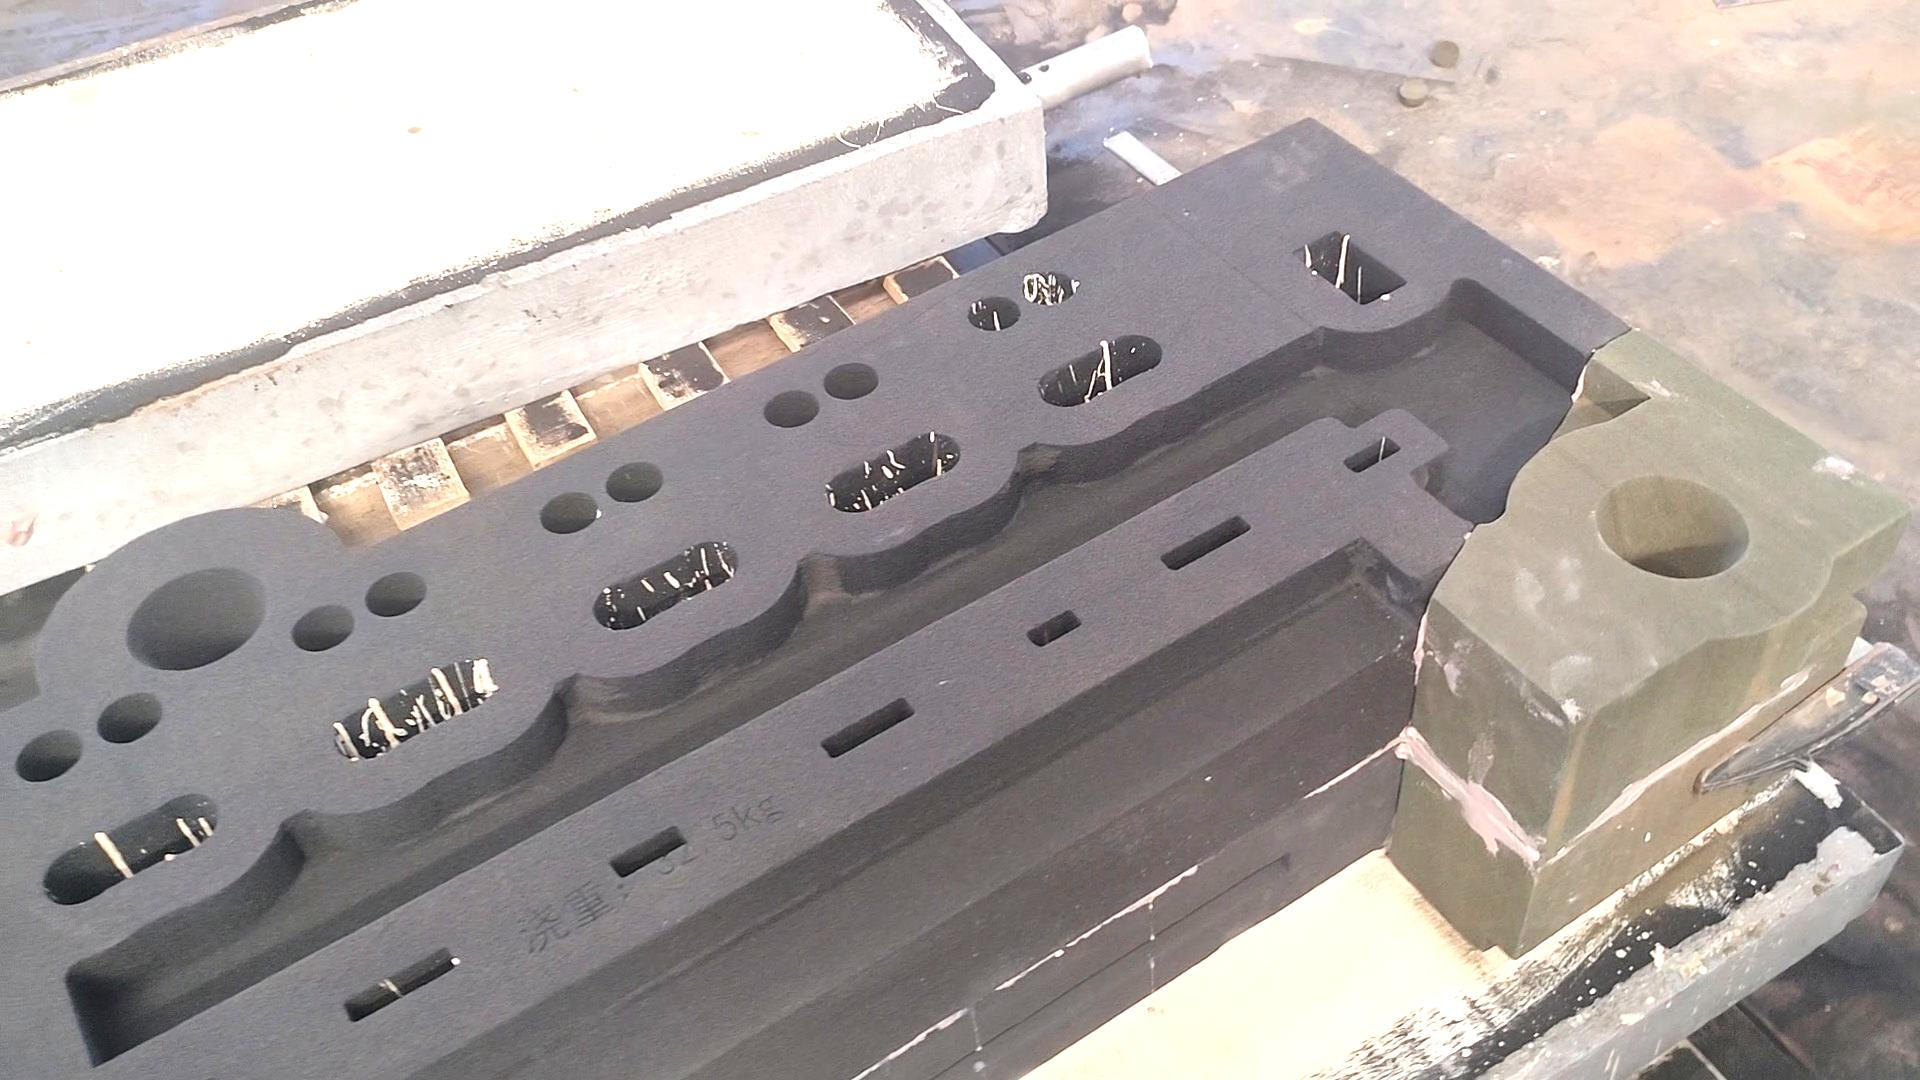pouring hole: (1600, 475, 1750, 578), (127, 567, 266, 671)
